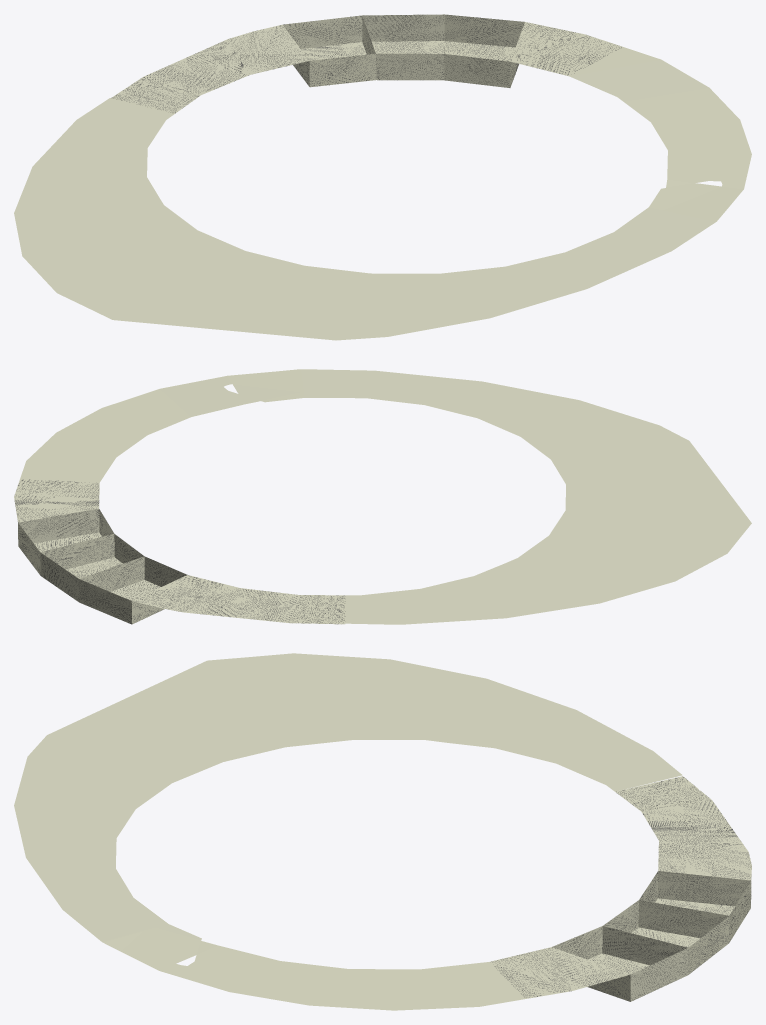
Rendered from original-6.obj.
3 views of the same model, one above another, from view 1: azimuth 30°, elevation 25°; view 2: azimuth 150°, elevation 25°; view 3: azimuth 270°, elevation 25° (orthographic). The views are drawn at different scales.
Visible parts, largest first — view 1: #ID18; view 2: #ID18; view 3: #ID18.
Part boxes in pixels (box(x1,y1,x2,y2)): #ID18: box(14, 14, 751, 340); #ID18: box(14, 369, 751, 624); #ID18: box(14, 653, 751, 1010).
Bounding box in the file's own units: 0.4989 × 0.0185 × 0.4364.
